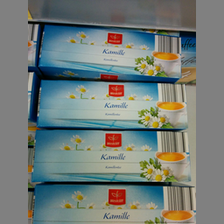tea: (30, 129, 191, 185), (36, 24, 183, 82), (37, 77, 189, 131), (34, 182, 194, 224)
